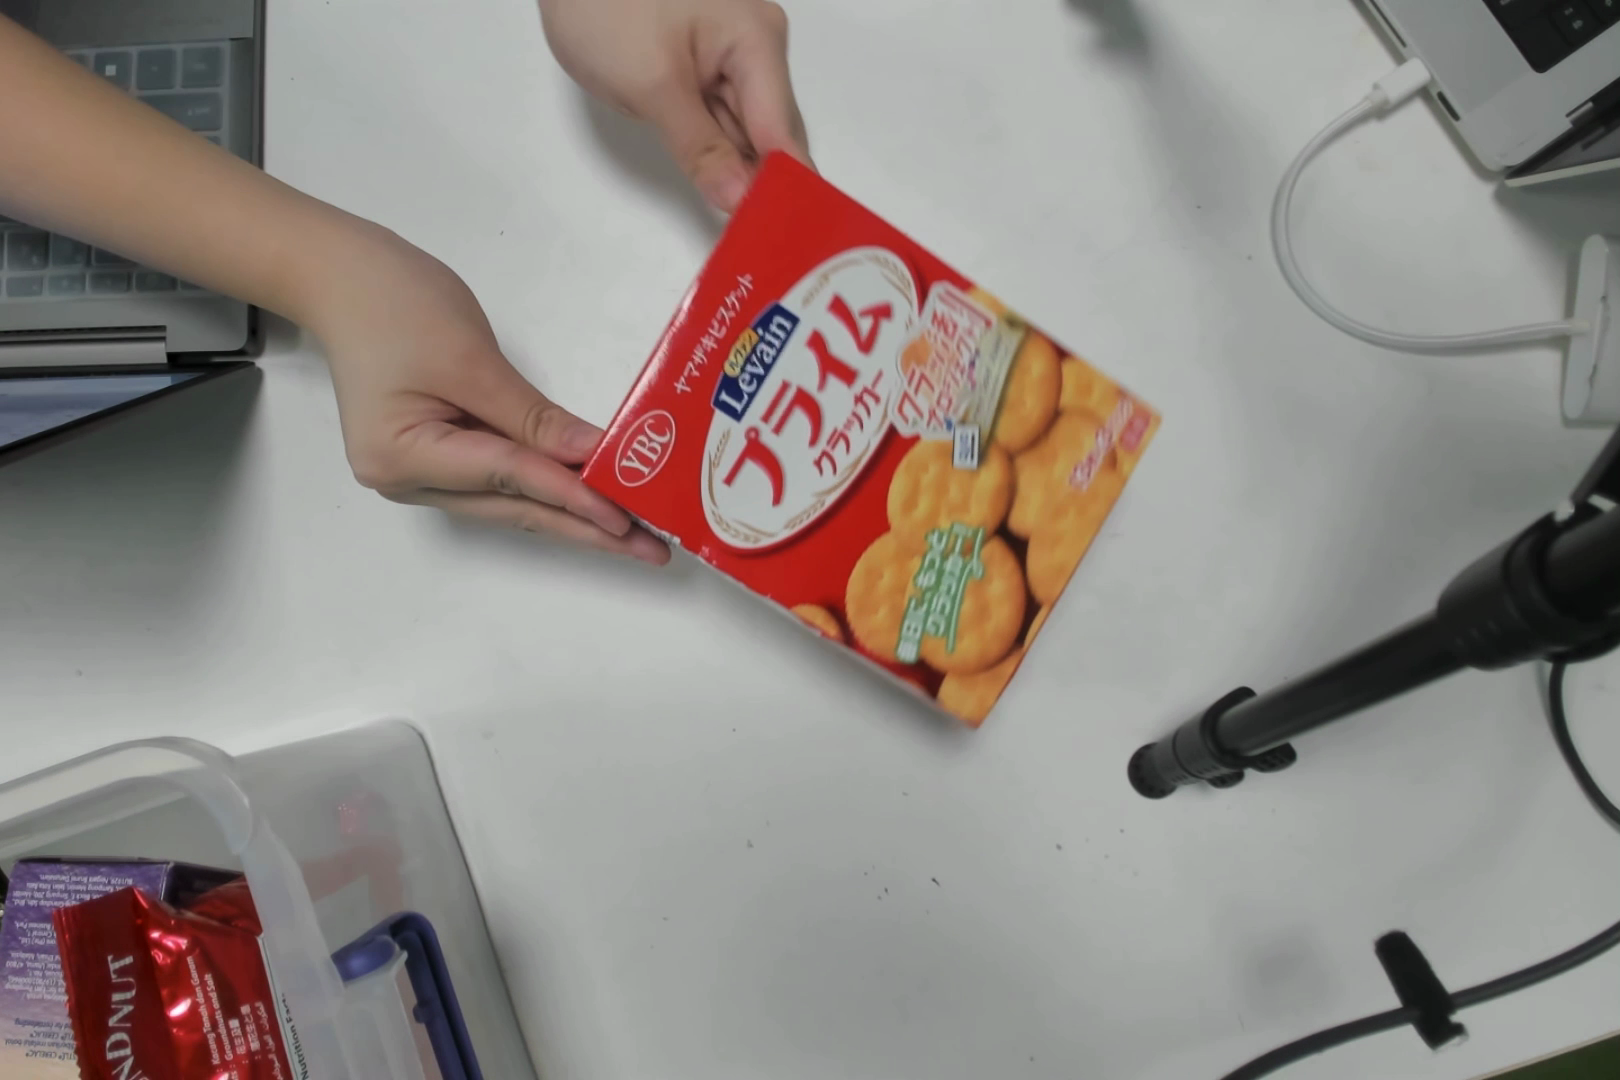c: (614, 253, 1152, 671)
